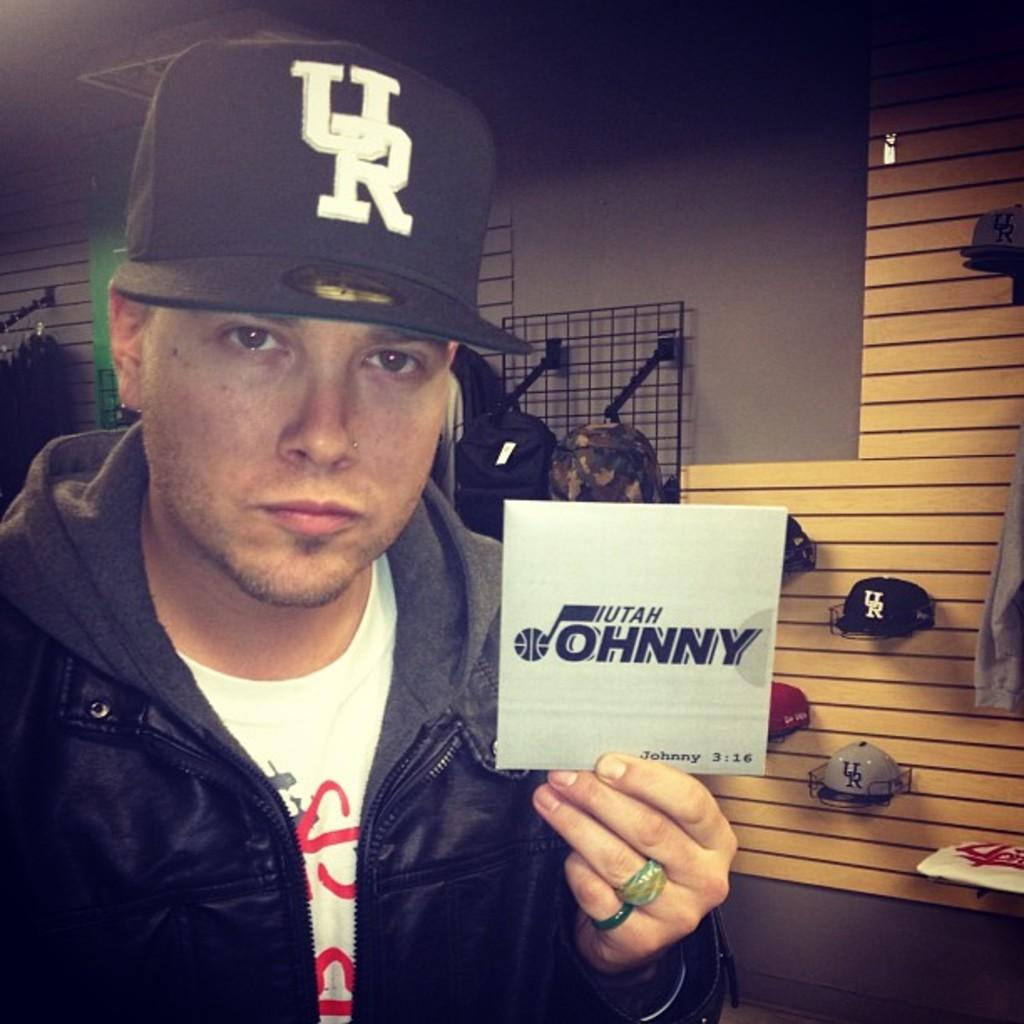Hat: (110, 40, 532, 356)
